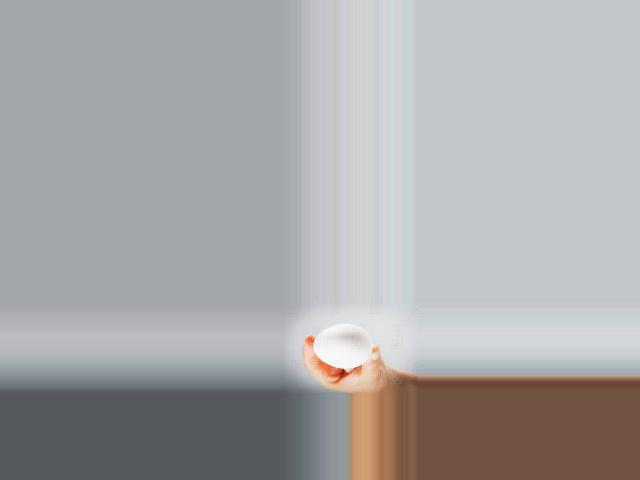egg: (313, 324, 371, 368)
